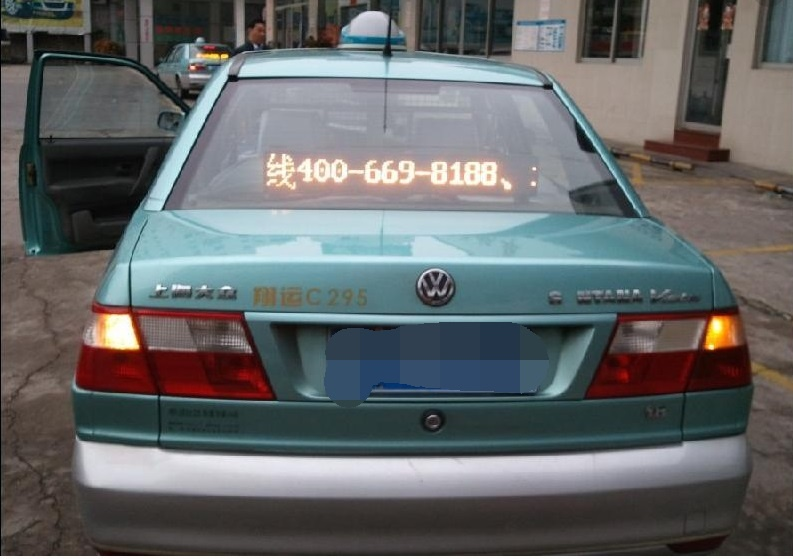taxi: (62, 13, 756, 528)
